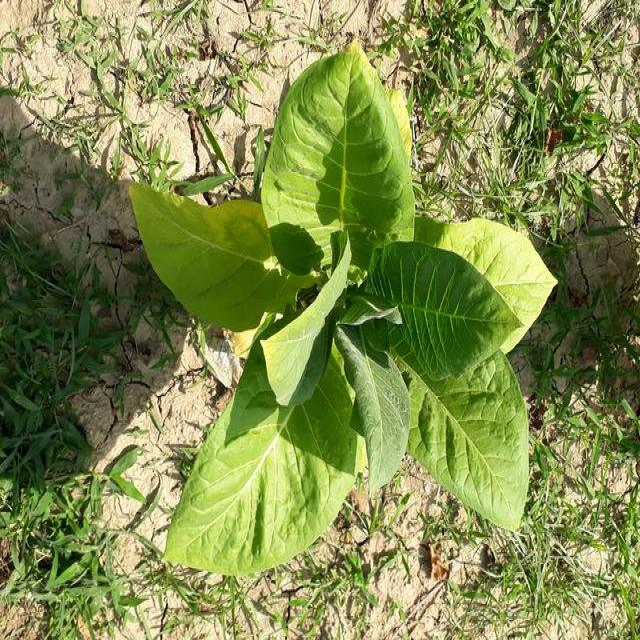crop: (140, 51, 550, 573)
